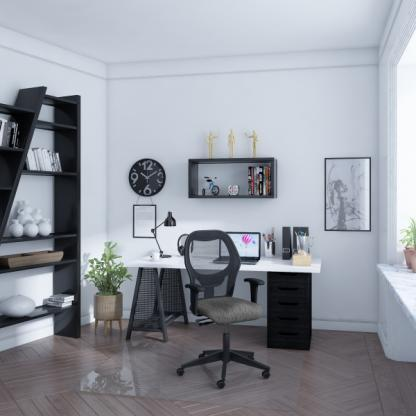chair: (177, 223, 274, 391)
clock: (125, 153, 168, 200)
light: (151, 213, 182, 259)
table: (115, 255, 328, 347)
